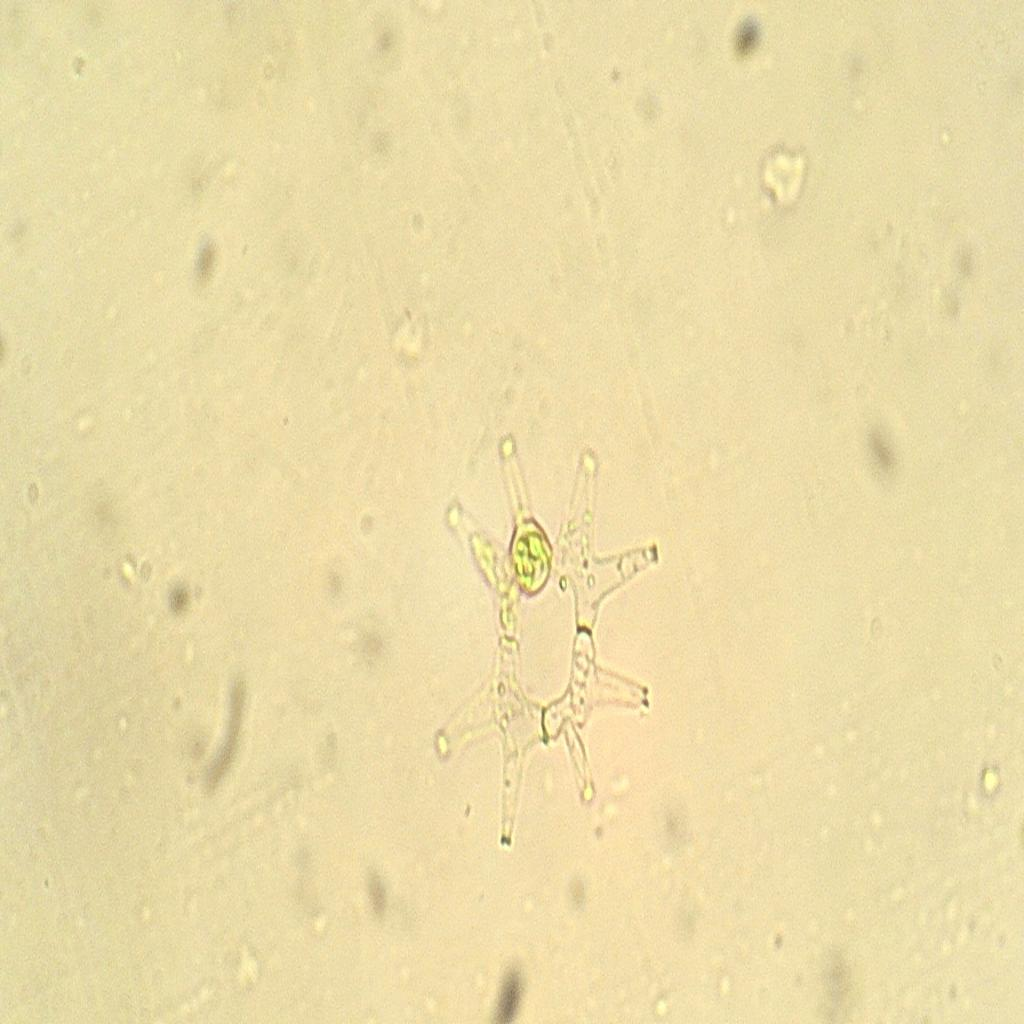Pediastrum_75TH: (424, 418, 679, 876)
